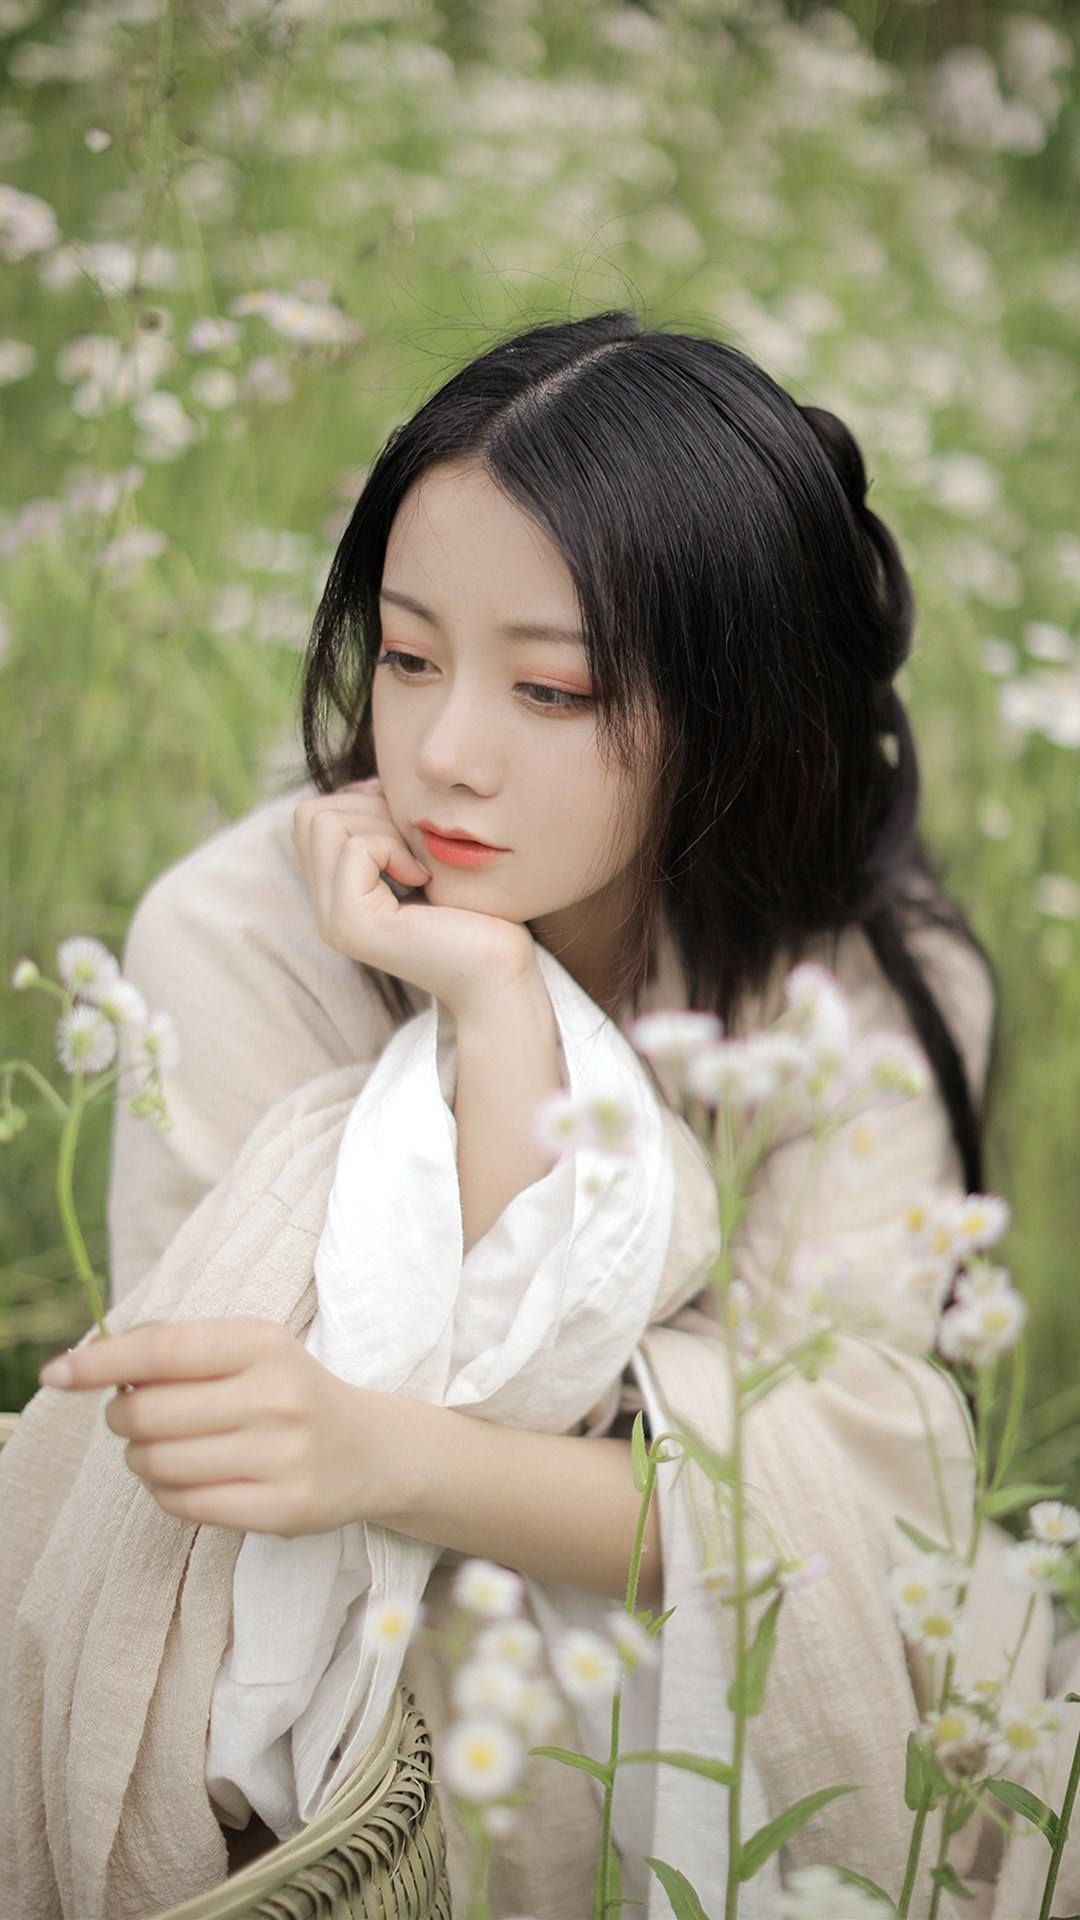person: (100, 200, 1080, 1419)
